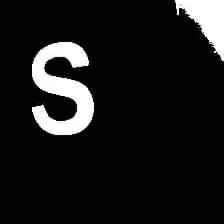LTR_S: (21, 33, 100, 144)
